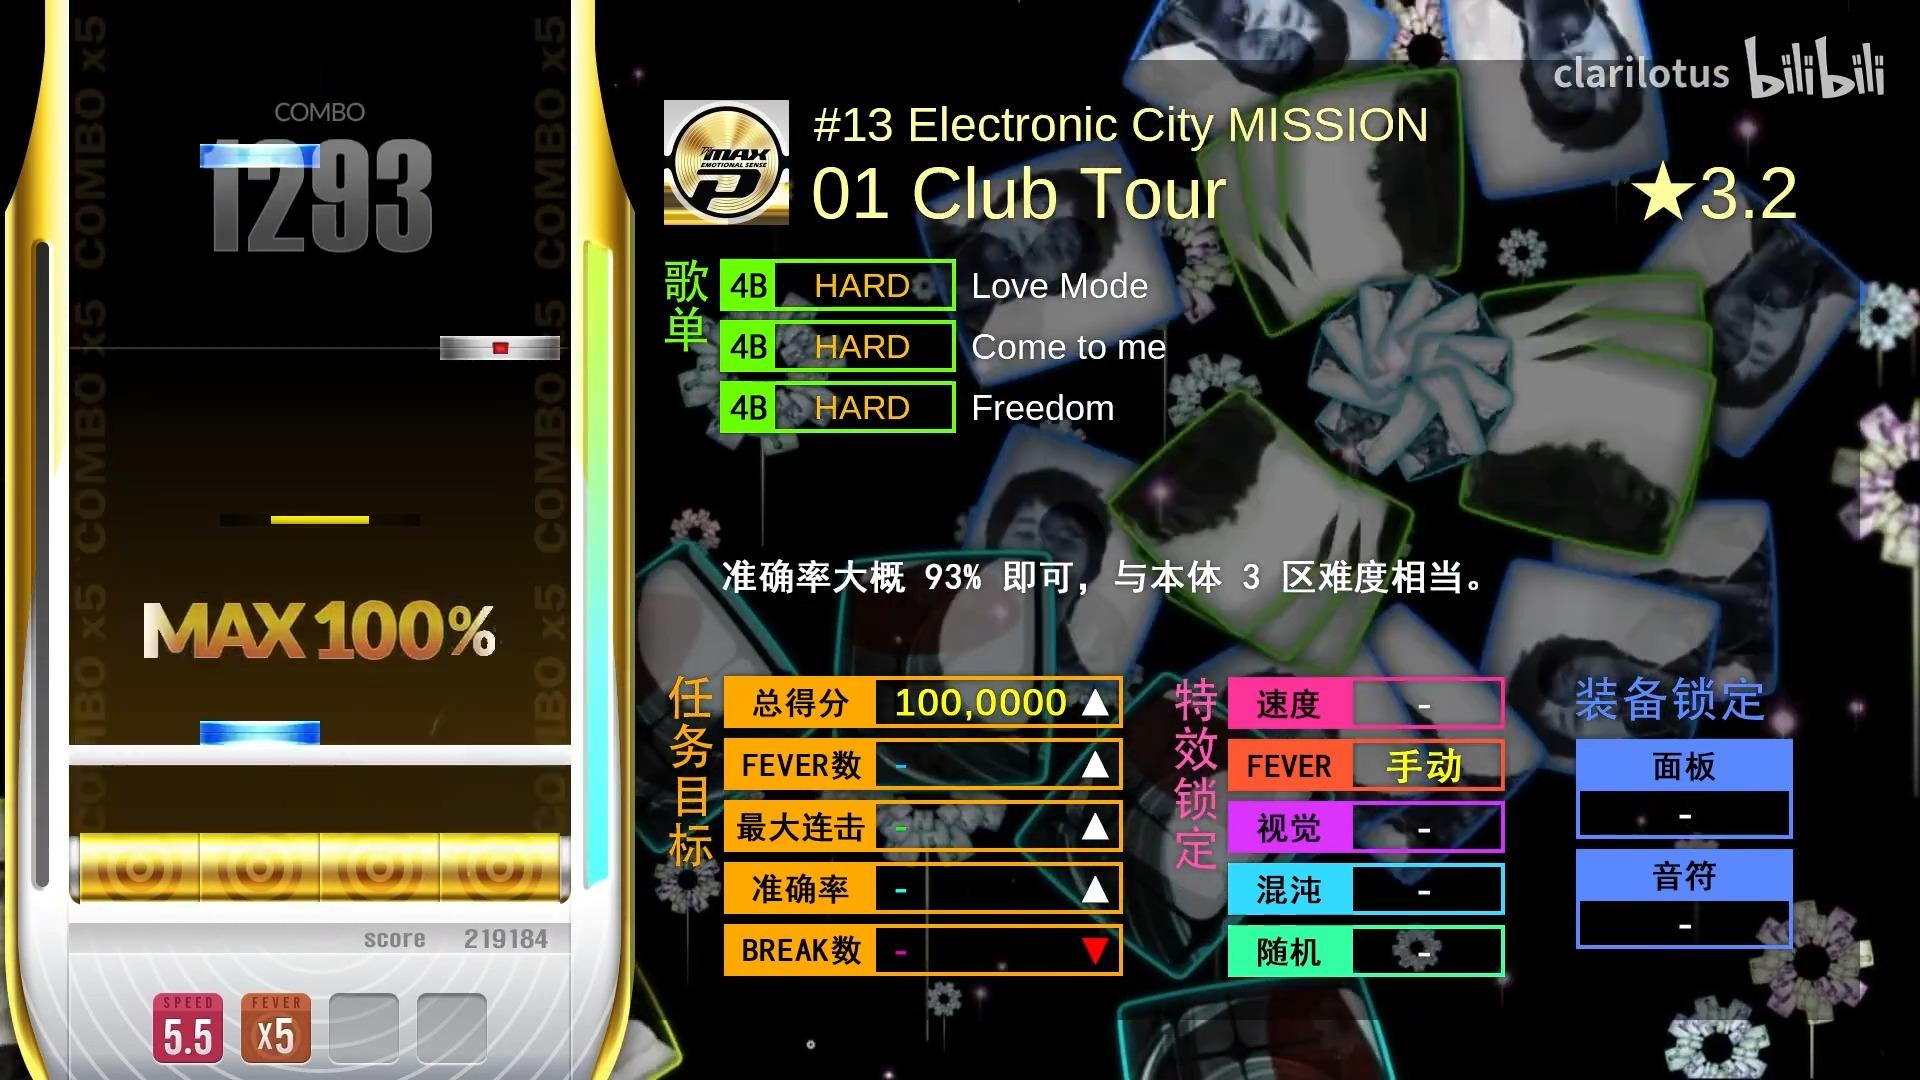note: (199, 720, 322, 746), (440, 334, 562, 360), (199, 142, 320, 169)
